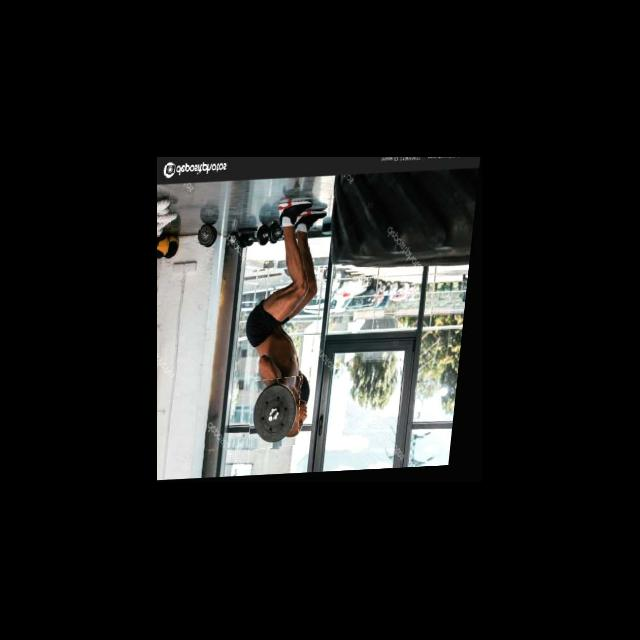barbell: (252, 378, 309, 451)
